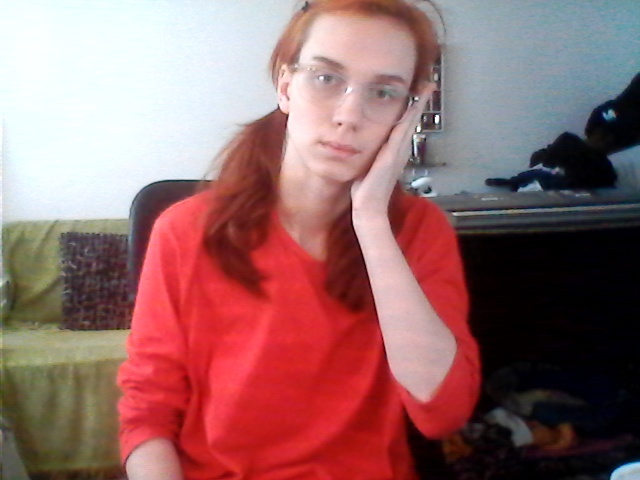lezat: (347, 67, 446, 225)
